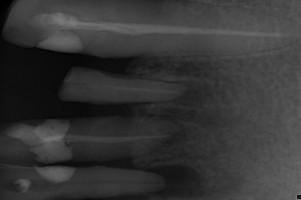Dental Caries: (110, 164, 202, 200)
